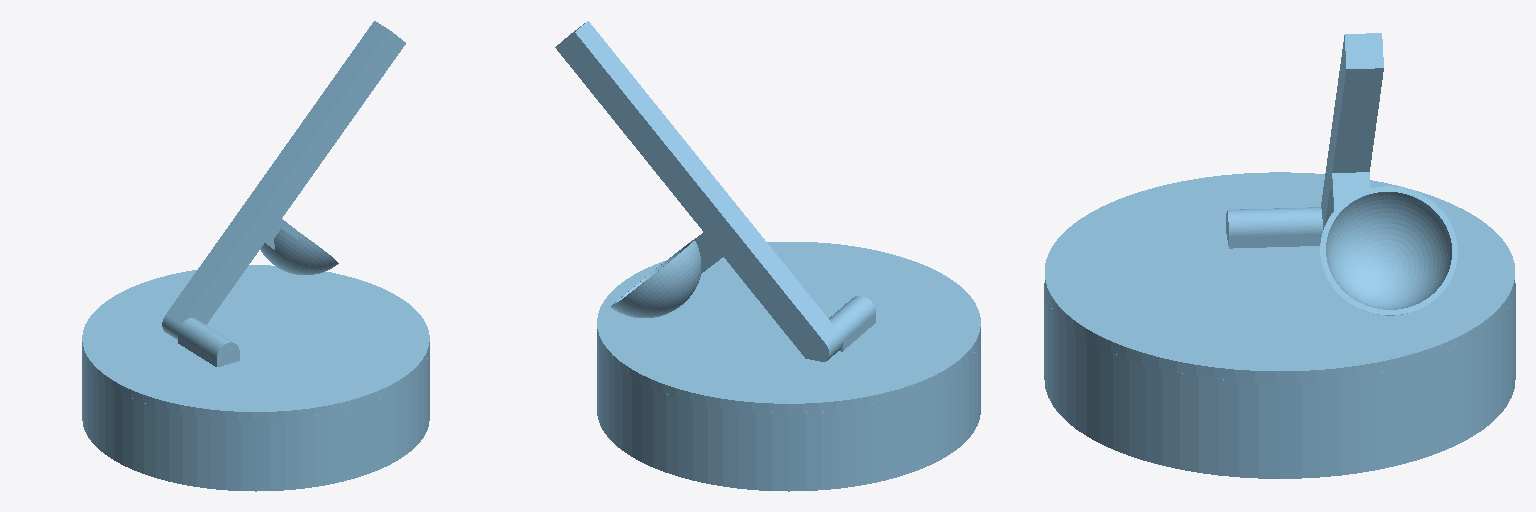
The robot description file, URDF, robot "onshape_urdf":
<?xml version="1.0" ?>
<!-- Generated using onshape-to-robot -->
<!-- Onshape https://cad.onshape.com/documents/3dc4b4763b6718c02dc70986/w/79ac6331923ba2fd9582710d/e/a51fdc22539c66f5617fdfdf -->
<robot name="onshape_urdf">
  <!-- Link base -->
  <link name="base">
    <inertial>
      <origin xyz="0 0 0" rpy="0 0 0"/>
      <mass value="1e-09"/>
      <inertia ixx="1e-09" ixy="0" ixz="0" iyy="1e-09" iyz="0" izz="1e-09"/>
    </inertial>
    <!-- Part base -->
    <visual>
      <origin xyz="0 0 0" rpy="0 -0 0"/>
      <geometry>
        <mesh filename="package://assets/base.stl"/>
      </geometry>
      <material name="base_material">
        <color rgba="0.615686 0.811765 0.929412 1"/>
      </material>
    </visual>
    <collision>
      <origin xyz="0 0 0" rpy="0 -0 0"/>
      <geometry>
        <mesh filename="package://assets/base.stl"/>
      </geometry>
    </collision>
  </link>
  <!-- Link lid -->
  <link name="lid">
    <inertial>
      <origin xyz="0 0 0" rpy="0 0 0"/>
      <mass value="1e-09"/>
      <inertia ixx="1e-09" ixy="0" ixz="0" iyy="1e-09" iyz="0" izz="1e-09"/>
    </inertial>
    <!-- Part lid -->
    <visual>
      <origin xyz="2.10649e-35 1.53081e-18 0.025" rpy="3.14159 -0 7.53366e-18"/>
      <geometry>
        <mesh filename="package://assets/lid.stl"/>
      </geometry>
      <material name="lid_material">
        <color rgba="0.615686 0.811765 0.929412 1"/>
      </material>
    </visual>
    <collision>
      <origin xyz="2.10649e-35 1.53081e-18 0.025" rpy="3.14159 -0 7.53366e-18"/>
      <geometry>
        <mesh filename="package://assets/lid.stl"/>
      </geometry>
    </collision>
  </link>
  <!-- Link pitch -->
  <link name="pitch">
    <inertial>
      <origin xyz="0 0 0" rpy="0 0 0"/>
      <mass value="1e-09"/>
      <inertia ixx="1e-09" ixy="0" ixz="0" iyy="1e-09" iyz="0" izz="1e-09"/>
    </inertial>
    <!-- Part pitch -->
    <visual>
      <origin xyz="1.38778e-17 0 -3.46945e-18" rpy="-1.5708 3.04003e-18 -3.92834e-18"/>
      <geometry>
        <mesh filename="package://assets/pitch.stl"/>
      </geometry>
      <material name="pitch_material">
        <color rgba="0.615686 0.811765 0.929412 1"/>
      </material>
    </visual>
    <collision>
      <origin xyz="1.38778e-17 0 -3.46945e-18" rpy="-1.5708 3.04003e-18 -3.92834e-18"/>
      <geometry>
        <mesh filename="package://assets/pitch.stl"/>
      </geometry>
    </collision>
  </link>
  <!-- Link hand -->
  <link name="hand">
    <inertial>
      <origin xyz="0 0 0" rpy="0 0 0"/>
      <mass value="1e-09"/>
      <inertia ixx="1e-09" ixy="0" ixz="0" iyy="1e-09" iyz="0" izz="1e-09"/>
    </inertial>
    <!-- Part hand -->
    <visual>
      <origin xyz="0.01 0 0" rpy="-3.14159 -2.63281e-18 1.73754e-17"/>
      <geometry>
        <mesh filename="package://assets/hand.stl"/>
      </geometry>
      <material name="hand_material">
        <color rgba="0.615686 0.811765 0.929412 1"/>
      </material>
    </visual>
    <collision>
      <origin xyz="0.01 0 0" rpy="-3.14159 -2.63281e-18 1.73754e-17"/>
      <geometry>
        <mesh filename="package://assets/hand.stl"/>
      </geometry>
    </collision>
  </link>
  <!-- Joint from pitch to hand -->
  <joint name="throw" type="prismatic">
    <origin xyz="-0.01 0.0949984 8.67362e-17" rpy="1.5708 -1.5708 0"/>
    <parent link="pitch"/>
    <child link="hand"/>
    <axis xyz="0 0 1"/>
    <limit effort="10" velocity="10" lower="-1" upper="1"/>
  </joint>
  <!-- Joint from lid to pitch -->
  <joint name="pitch" type="revolute">
    <origin xyz="0.041 0.025 -0.0135" rpy="-1.5708 0.771723 7.57459e-16"/>
    <parent link="lid"/>
    <child link="pitch"/>
    <axis xyz="0 0 1"/>
    <limit effort="10" velocity="10" lower="-3.141592653589793" upper="3.141592653589793"/>
  </joint>
  <!-- Joint from base to lid -->
  <joint name="yaw" type="revolute">
    <origin xyz="-3.12958e-20 2.12718e-19 0.0565" rpy="3.14159 -0 -3.07134"/>
    <parent link="base"/>
    <child link="lid"/>
    <axis xyz="0 0 1"/>
    <limit effort="10" velocity="10" lower="-3.141592653589793" upper="3.141592653589793"/>
  </joint>
</robot>

--- Facts derived from the render (not from the file) ---
Views: 3 orthographic renders of the robot side by side, from view 1: azimuth 30°, elevation 25°; view 2: azimuth 150°, elevation 25°; view 3: azimuth 270°, elevation 25°.
Robot: onshape_urdf — 4 links, 3 joints (2 revolute, 1 prismatic); root link base; default pose: every joint at zero.
Links seen in each view (by area): view 1: lid, base, pitch, hand; view 2: lid, base, pitch, hand; view 3: lid, base, hand, pitch.
Boxes of the visible links, box(x1,y1,x2,y2) form: lid: box(82, 265, 429, 419); base: box(82, 350, 429, 491); pitch: box(162, 21, 405, 361); hand: box(260, 219, 338, 274); lid: box(597, 242, 980, 412); base: box(597, 336, 980, 491); pitch: box(555, 21, 842, 361); hand: box(611, 232, 722, 317); lid: box(1045, 172, 1514, 381); base: box(1044, 283, 1515, 478); hand: box(1320, 172, 1457, 315); pitch: box(1227, 33, 1383, 236).
Bounding box of the posed robot: 0.2704 × 0.25 × 0.2633 m (x, y, z).
Meshes: 4 distinct files referenced, 4 mesh visuals loaded (4 binary STL).